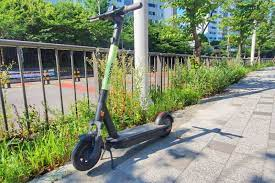kick_board: (73, 2, 174, 171)
kick_handler: (86, 2, 143, 25)
kick_neck: (97, 31, 118, 116)
kick_wheel: (72, 134, 103, 170), (157, 112, 174, 134)
